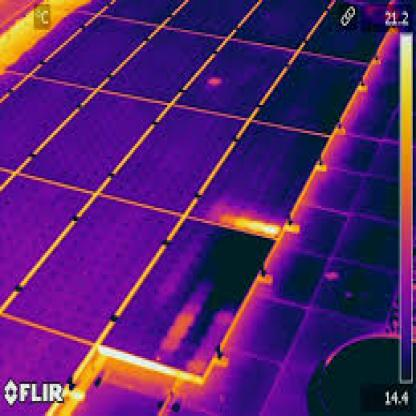Defects: (228, 214, 283, 236)
